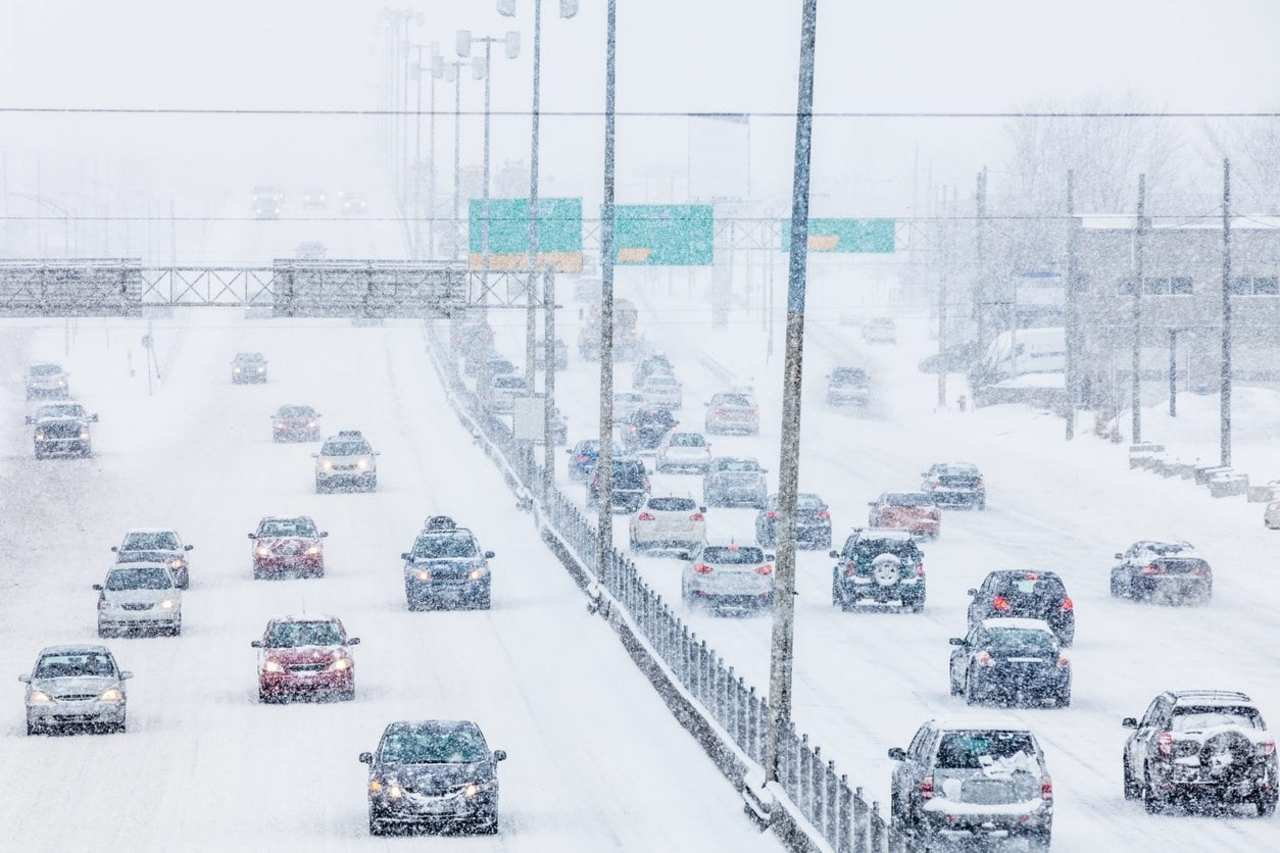car: (891, 721, 1056, 843), (1119, 690, 1276, 815), (362, 717, 503, 840), (19, 644, 131, 737), (960, 621, 1067, 708), (256, 611, 359, 701), (964, 567, 1078, 647), (401, 522, 494, 612), (834, 529, 926, 613), (1107, 538, 1213, 607), (95, 561, 186, 639), (686, 544, 778, 605), (313, 430, 381, 494), (631, 497, 710, 551), (753, 493, 831, 544), (116, 532, 192, 581), (31, 403, 96, 459), (867, 490, 938, 539), (920, 464, 986, 510), (592, 456, 647, 506), (701, 456, 767, 497), (699, 392, 758, 434), (268, 401, 323, 444), (568, 440, 619, 483), (654, 430, 708, 470), (824, 366, 872, 406), (626, 408, 668, 447), (24, 366, 73, 396), (489, 375, 526, 410), (639, 374, 682, 404), (921, 347, 967, 375), (528, 336, 568, 366), (230, 352, 267, 382), (864, 318, 898, 342), (607, 397, 638, 420), (341, 195, 370, 216), (291, 246, 328, 262), (254, 204, 282, 222), (252, 191, 279, 208), (303, 192, 325, 208)
